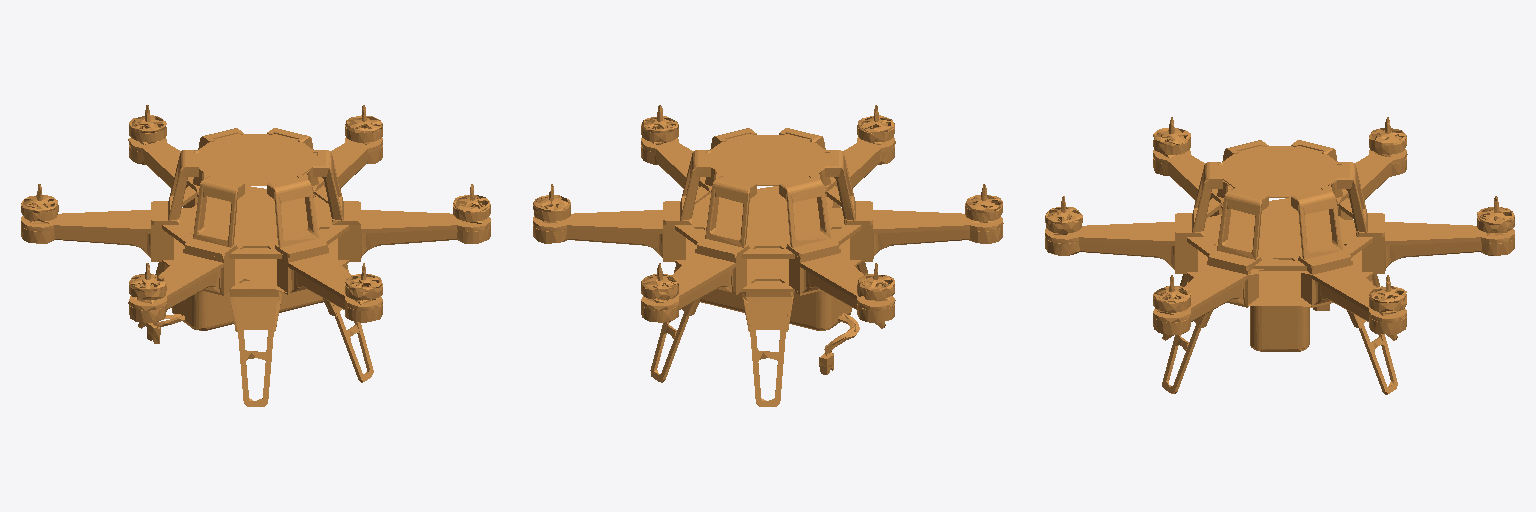
The robot description file, URDF, robot "hexacopter370":
<?xml version="1.0" encoding="utf-8"?>
<robot name="hexacopter370">
  <link name="hexacopter370__base_link">
    <inertial>
      <mass value="1.9828" />
      <origin xyz="0 0 0" />
      <inertia ixx="0.0134943" ixy="-9.6E-06" ixz="2.82E-05" iyy="0.0141622" iyz="-7.9E-06" izz="0.0237319" />
    </inertial>
    <visual>
      <origin rpy="0 0 0" xyz="0 0 0" />
      <geometry>
        <mesh filename="package://hidro_robots/robots/hexacopter370/meshes/hexacopter370.dae" scale="1 1 1" />
      </geometry>
      <material name="">
        <color rgba="0.8471 0.6078 0.3412 1" />
      </material>
    </visual>
    <collision>
      <origin rpy="0 0 0" xyz="0 0 0" />
      <geometry>
        <box size="0.4 0.4 0.2"/>
      </geometry>
    </collision>
  </link>

  <joint name="hexacopter370__rotor_0_joint" type="fixed">
    <origin rpy="0 0 0" xyz="0.16021469970004 0.0925 0.05" />
    <axis xyz="0 0 1" />
    <parent link="hexacopter370__base_link" />
    <child link="hexacopter370__rotor_0" />
  </joint>

  <link name="hexacopter370__rotor_0">
    <inertial>
      <mass value="0.005" />
      <inertia ixx="9.7499961e-07" ixy="0.0" ixz="0.0" iyy="3.296752847965001e-05" iyz="0.0" izz="3.386752811965e-05" />
    </inertial>
    <visual>
      <geometry>
        <mesh filename="package://hidro_robots/robots/hexacopter370/meshes/propeller_ccw.dae" scale="0.0889 0.0889 0.0889" />
      </geometry>
      <material name="">
        <color rgba="0.3020 0.2784 0.2706 1" />
      </material>
    </visual>
    <collision>
      <geometry>
        <cylinder length="0.005" radius="0.0889" />
      </geometry>
    </collision>
  </link>

  <joint name="hexacopter370__rotor_1_joint" type="fixed">
    <origin rpy="0 0 0" xyz="0 0.185 0.05" />
    <axis xyz="0 0 1" />
    <parent link="hexacopter370__base_link" />
    <child link="hexacopter370__rotor_1" />
  </joint>
  <link name="hexacopter370__rotor_1">
    <inertial>
      <mass value="0.005" />
      <inertia ixx="9.7499961e-07" ixy="0.0" ixz="0.0" iyy="3.296752847965001e-05" iyz="0.0" izz="3.386752811965e-05" />
    </inertial>
    <visual>
      <geometry>
        <mesh filename="package://hidro_robots/robots/hexacopter370/meshes/propeller_cw.dae" scale="0.0889 0.0889 0.0889" />
      </geometry>
      <material name="">
        <color rgba="0.8941 0.3137 0.1882 1" />
      </material>
    </visual>
    <collision>
      <geometry>
        <cylinder length="0.005" radius="0.0889" />
      </geometry>
    </collision>
  </link>
  <joint name="hexacopter370__rotor_2_joint" type="fixed">
    <origin rpy="0 0 0" xyz="-0.16021469970004 0.0925 0.05" />
    <axis xyz="0 0 1" />
    <parent link="hexacopter370__base_link" />
    <child link="hexacopter370__rotor_2" />
  </joint>
  <link name="hexacopter370__rotor_2">
    <inertial>
      <mass value="0.005" />
      <inertia ixx="9.7499961e-07" ixy="0.0" ixz="0.0" iyy="3.296752847965001e-05" iyz="0.0" izz="3.386752811965e-05" />
    </inertial>
    <visual>
      <geometry>
        <mesh filename="package://hidro_robots/robots/hexacopter370/meshes/propeller_ccw.dae" scale="0.0889 0.0889 0.0889" />
      </geometry>
      <material name="">
        <color rgba="0.8941 0.3137 0.1882 1" />
      </material>
    </visual>
    <collision>
      <geometry>
        <cylinder length="0.005" radius="0.0889" />
      </geometry>
    </collision>
  </link>
  <joint name="hexacopter370__rotor_3_joint" type="fixed">
    <origin rpy="0 0 0" xyz="-0.16021469970004 -0.0925 0.05" />
    <axis xyz="0 0 1" />
    <parent link="hexacopter370__base_link" />
    <child link="hexacopter370__rotor_3" />
  </joint>
  <link name="hexacopter370__rotor_3">
    <inertial>
      <mass value="0.005" />
      <inertia ixx="9.7499961e-07" ixy="0.0" ixz="0.0" iyy="3.296752847965001e-05" iyz="0.0" izz="3.386752811965e-05" />
    </inertial>
    <visual>
      <geometry>
        <mesh filename="package://hidro_robots/robots/hexacopter370/meshes/propeller_cw.dae" scale="0.0889 0.0889 0.0889" />
      </geometry>
      <material name="">
        <color rgba="0.8941 0.3137 0.1882 1" />
      </material>
    </visual>
    <collision>
      <geometry>
        <cylinder length="0.005" radius="0.0889" />
      </geometry>
    </collision>
  </link>
  <joint name="hexacopter370__rotor_4_joint" type="fixed">
    <origin rpy="0 0 0" xyz="0 -0.185 0.05" />
    <axis xyz="0 0 1" />
    <parent link="hexacopter370__base_link" />
    <child link="hexacopter370__rotor_4" />
  </joint>
  <link name="hexacopter370__rotor_4">
    <inertial>
      <mass value="0.005" />
      <inertia ixx="9.7499961e-07" ixy="0.0" ixz="0.0" iyy="3.296752847965001e-05" iyz="0.0" izz="3.386752811965e-05" />
    </inertial>
    <visual>
      <geometry>
        <mesh filename="package://hidro_robots/robots/hexacopter370/meshes/propeller_ccw.dae" scale="0.0889 0.0889 0.0889" />
      </geometry>
      <material name="">
        <color rgba="0.8941 0.3137 0.1882 1" />
      </material>
    </visual>
    <collision>
      <geometry>
        <cylinder length="0.005" radius="0.0889" />
      </geometry>
    </collision>
  </link>
  <joint name="hexacopter370__rotor_5_joint" type="fixed">
    <origin rpy="0 0 0" xyz="0.16021469970004 -0.0925 0.05" />
    <axis xyz="0 0 1" />
    <parent link="hexacopter370__base_link" />
    <child link="hexacopter370__rotor_5" />
  </joint>
  <link name="hexacopter370__rotor_5">
    <inertial>
      <mass value="0.005" />
      <inertia ixx="9.7499961e-07" ixy="0.0" ixz="0.0" iyy="3.296752847965001e-05" iyz="0.0" izz="3.386752811965e-05" />
    </inertial>
    <visual>
      <geometry>
        <mesh filename="package://hidro_robots/robots/hexacopter370/meshes/propeller_cw.dae" scale="0.0889 0.0889 0.0889" />
      </geometry>
      <material name="">
        <color rgba="0.3020 0.2784 0.2706 1" />
      </material>
    </visual>
    <collision>
      <geometry>
        <cylinder length="0.005" radius="0.0889" />
      </geometry>
    </collision>
  </link>
</robot>

--- Facts derived from the render (not from the file) ---
The picture shows the robot from 3 angles, left to right: view 1: azimuth 30°, elevation 25°; view 2: azimuth 150°, elevation 25°; view 3: azimuth 270°, elevation 25°; orthographic projection.
Model hexacopter370 with 7 links and 6 joints (6 fixed), rooted at hexacopter370__base_link, posed every joint at zero.
Links seen in each view (by area): view 1: hexacopter370__base_link; view 2: hexacopter370__base_link; view 3: hexacopter370__base_link.
Boxes of the visible links, <box> form: hexacopter370__base_link: <box>21,105,490,406</box>; hexacopter370__base_link: <box>533,105,1003,406</box>; hexacopter370__base_link: <box>1045,117,1514,394</box>.
Bounding box of the posed robot: 0.3537 × 0.4032 × 0.1844 m (x, y, z).
Meshes: 3 distinct files referenced, 1 mesh visuals loaded (1 Collada DAE); not drawn: 6 (reference not matched to a file when rendering).